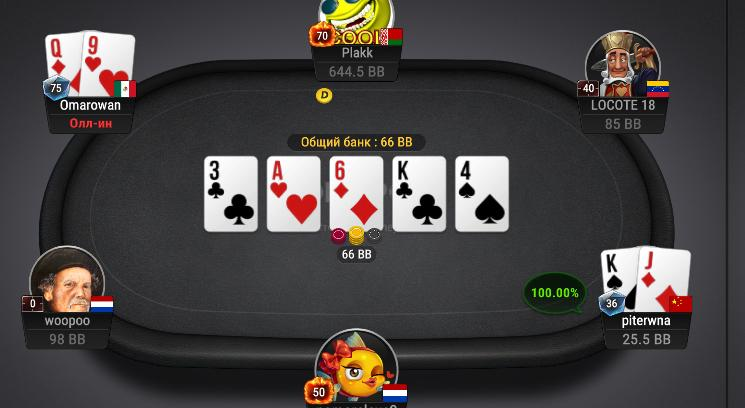3c: (205, 157, 258, 232)
4s: (456, 156, 509, 232)
6d: (330, 156, 383, 229)
9h: (82, 31, 133, 96)
Ah: (268, 157, 321, 233)
Jd: (639, 247, 691, 311)
Kc: (392, 156, 447, 232)
Ks: (601, 248, 639, 311)
Qd: (44, 32, 82, 97)
